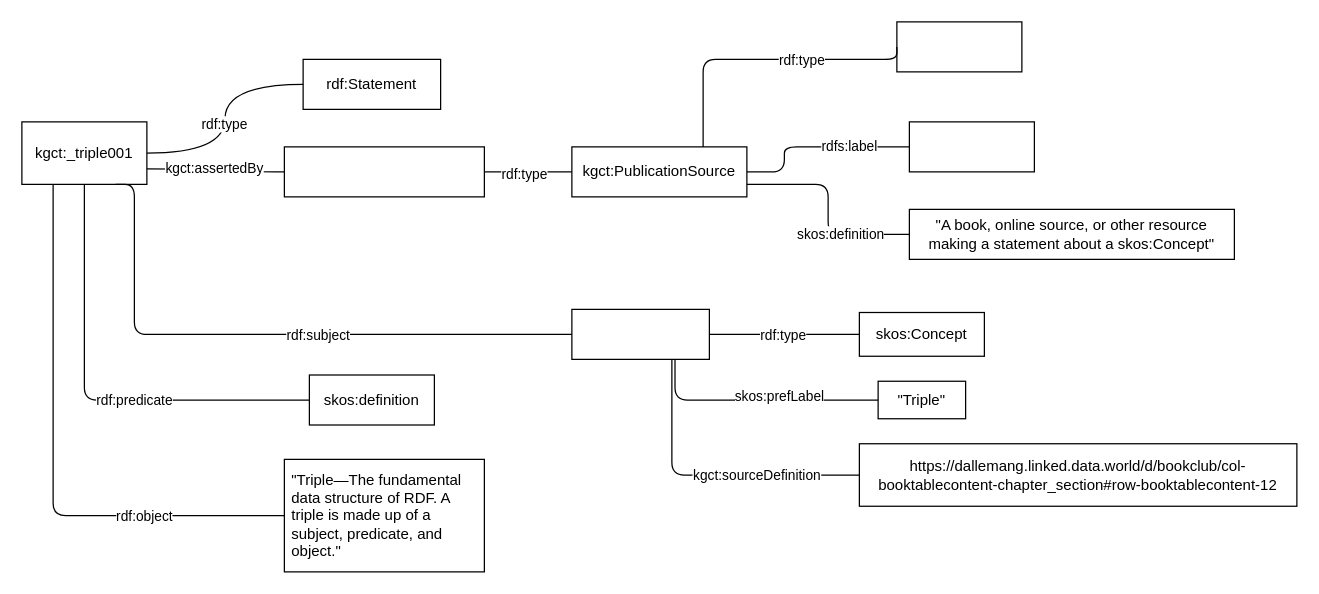
Image size: 1319x594. Some labels were removed from this diagram. Here are the shapes that lost their labels. From the top down, the box of each, then its label:
(896, 21, 1022, 72): rdfs:Class
(908, 121, 1034, 172): "Publication Source"
(283, 146, 484, 197): kgct:_BookSWW03rdEd
(571, 308, 709, 359): kgct:Triple
